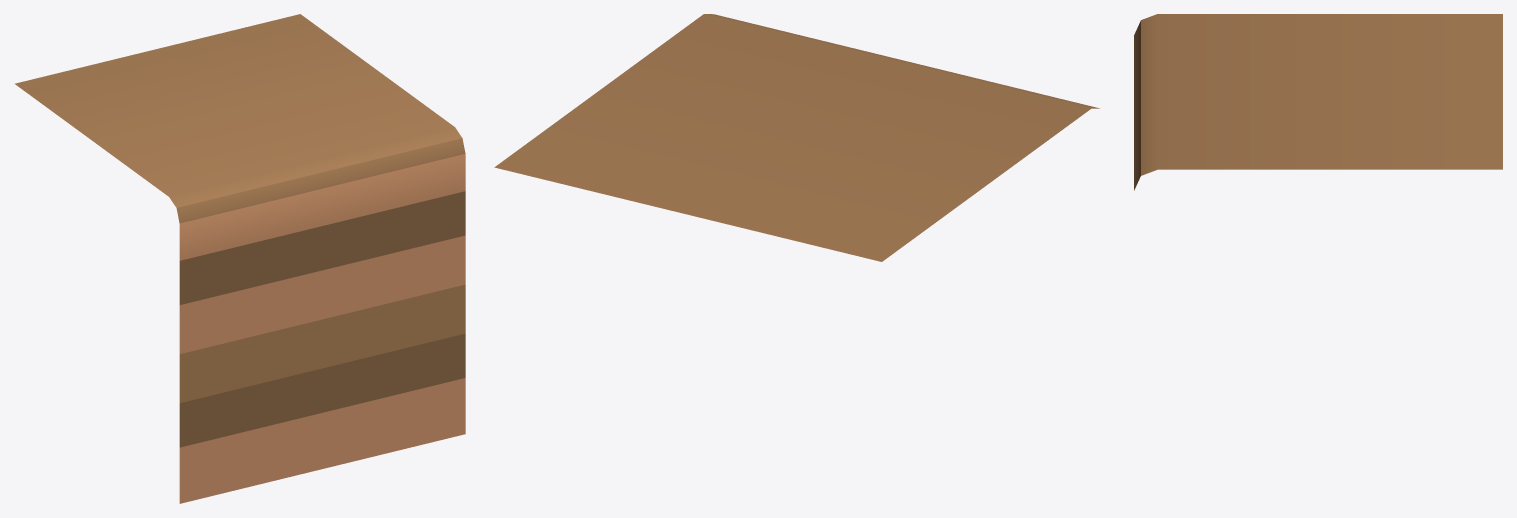
The model's file is Cube_Dirt_Side_Tall.glb.
3 views of the same model, side by side, from view 1: azimuth 30°, elevation 25°; view 2: azimuth 150°, elevation 25°; view 3: azimuth 270°, elevation 25° (orthographic). The views are drawn at different scales.
Visible parts, largest first — view 1: Cube_Dirt_Side_Tall; view 2: Cube_Dirt_Side_Tall; view 3: Cube_Dirt_Side_Tall.
Boxes of the visible parts, x1,y1,x2,y2 form: Cube_Dirt_Side_Tall: [14, 14, 465, 503]; Cube_Dirt_Side_Tall: [494, 14, 1099, 261]; Cube_Dirt_Side_Tall: [1134, 14, 1502, 190].
Size of the model in its own units: 2 by 2 by 2.
